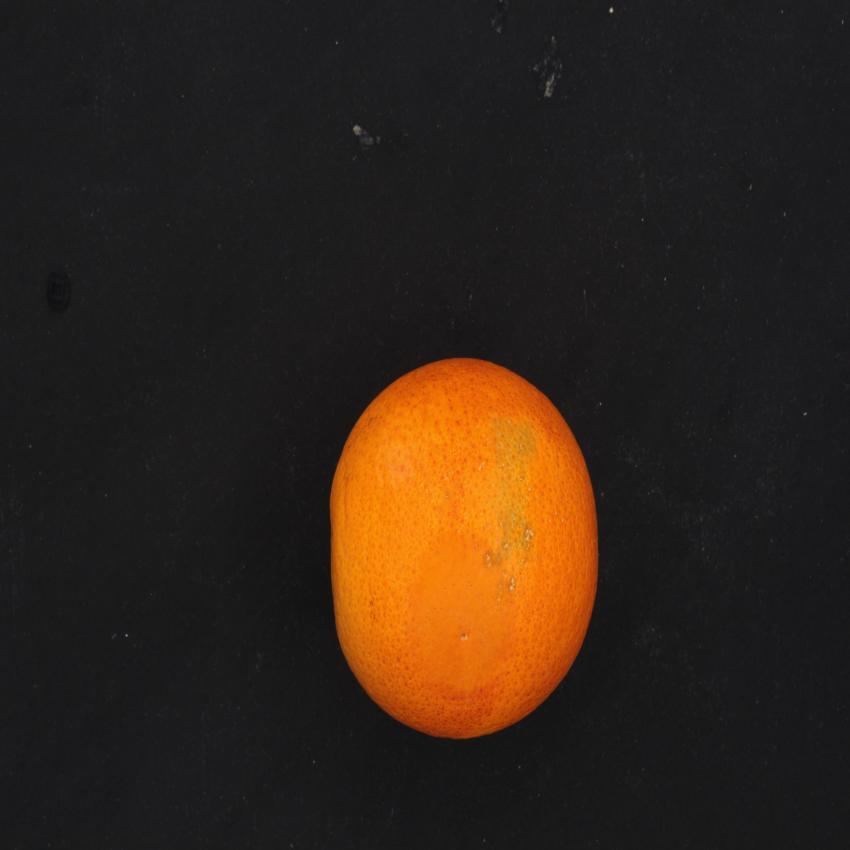Mal estado: (324, 344, 606, 759)
